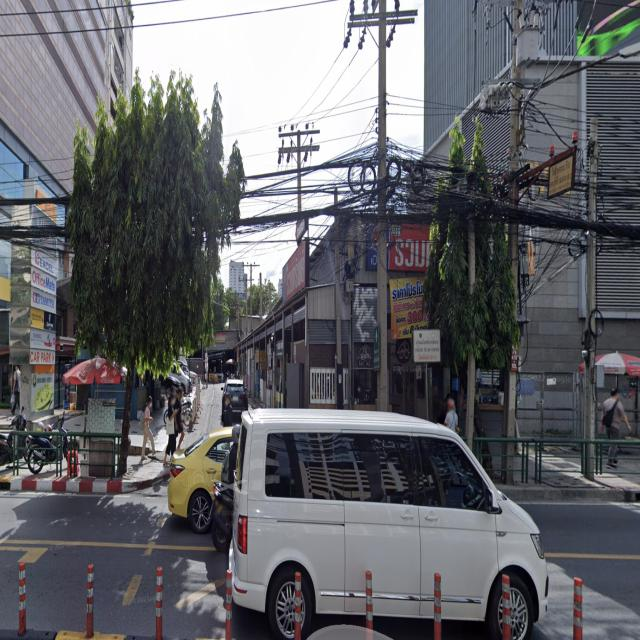tree: (59, 63, 240, 487), (429, 108, 522, 488)
